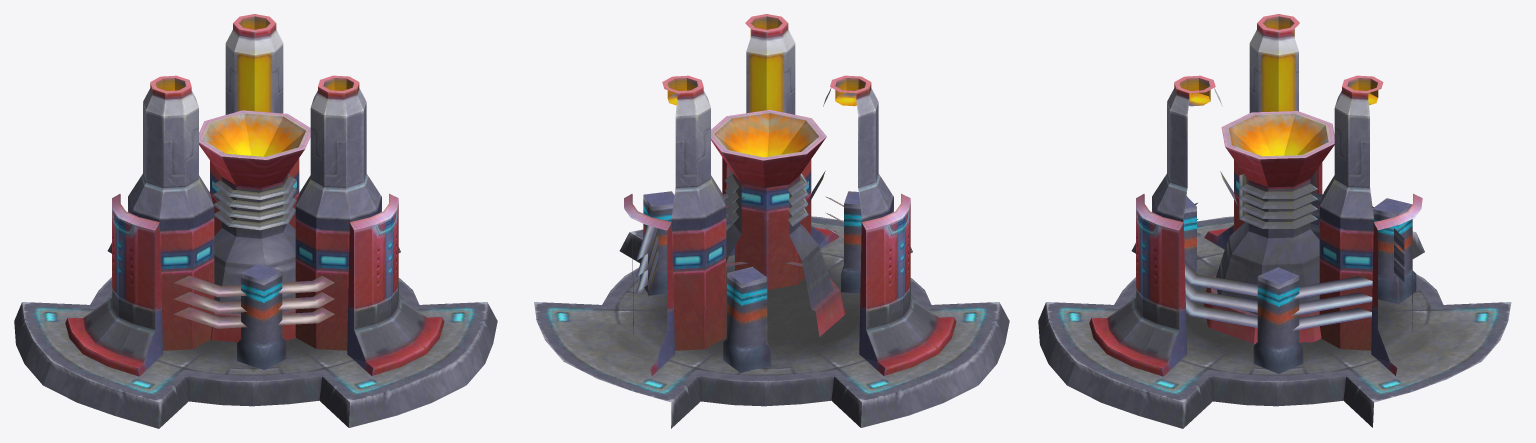
The picture shows the model from 3 angles, left to right: view 1: azimuth 30°, elevation 25°; view 2: azimuth 150°, elevation 25°; view 3: azimuth 270°, elevation 25°; orthographic projection.
Parts seen in each view (by area): view 1: build14_2; view 2: build14_2; view 3: build14_2.
Boxes of the visible parts, bbox=[...] form: build14_2: bbox=[14, 14, 497, 428]; build14_2: bbox=[534, 14, 1009, 428]; build14_2: bbox=[1038, 14, 1511, 428].
Size of the model in its own units: 9.59 by 6.07 by 9.87.
Materials: 1 (1 with a texture image).
